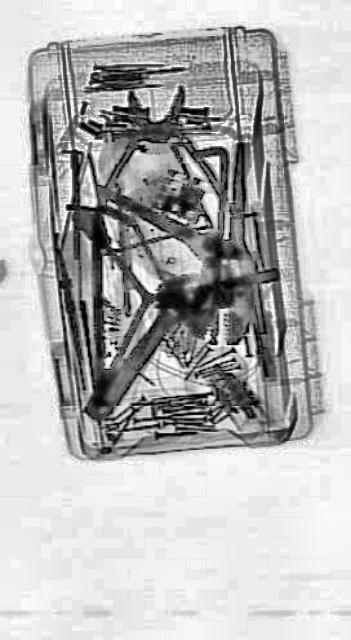Pliers: (89, 78, 225, 220)
